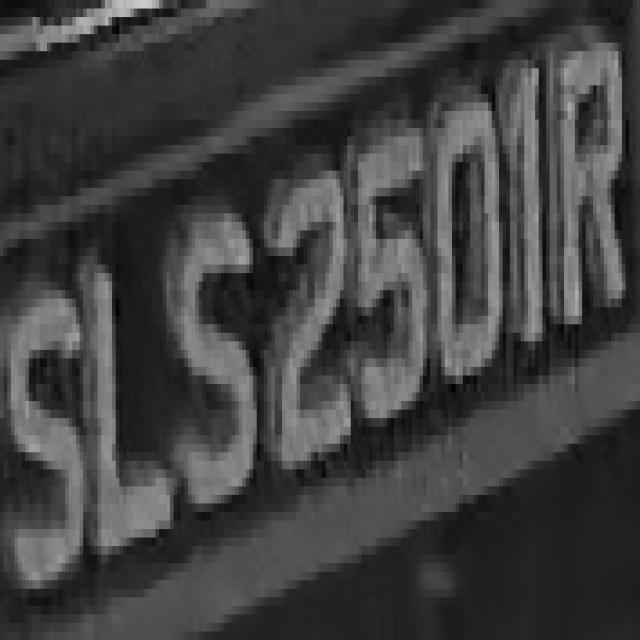0: (430, 77, 506, 392)
1: (503, 52, 546, 358)
2: (260, 162, 354, 504)
5: (347, 94, 430, 461)
L: (72, 214, 184, 564)
R: (546, 34, 626, 341)
S: (159, 170, 257, 554)
